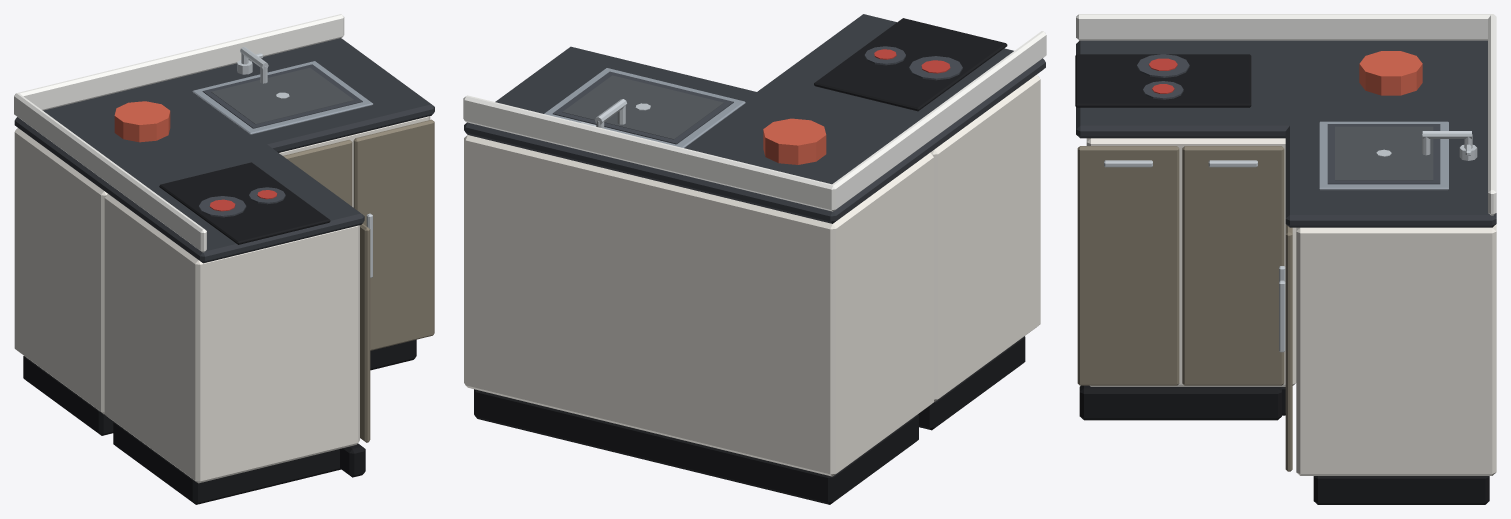
File: kitchen_small.glb
The picture shows the model from 3 angles, left to right: view 1: azimuth 30°, elevation 25°; view 2: azimuth 150°, elevation 25°; view 3: azimuth 270°, elevation 25°; orthographic projection. The views are drawn at different scales.
Visible parts, largest first — view 1: kitchen_small_Body; view 2: kitchen_small_Body; view 3: kitchen_small_Body.
Part boxes in pixels (x1,y1,x2,y2): kitchen_small_Body: [14, 14, 434, 504]; kitchen_small_Body: [463, 14, 1046, 504]; kitchen_small_Body: [1075, 14, 1496, 504].
Bounding box in the file's own units: 1.2 × 1 × 1.2.
